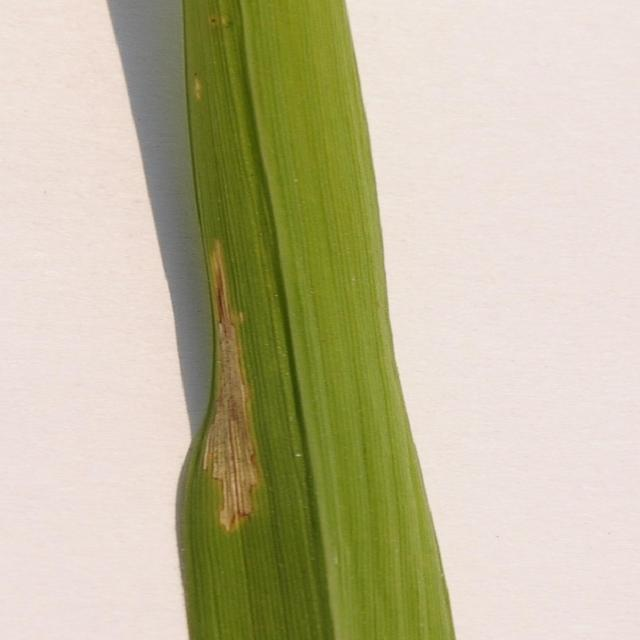Bacterial leaf blight: (137, 0, 500, 640)
